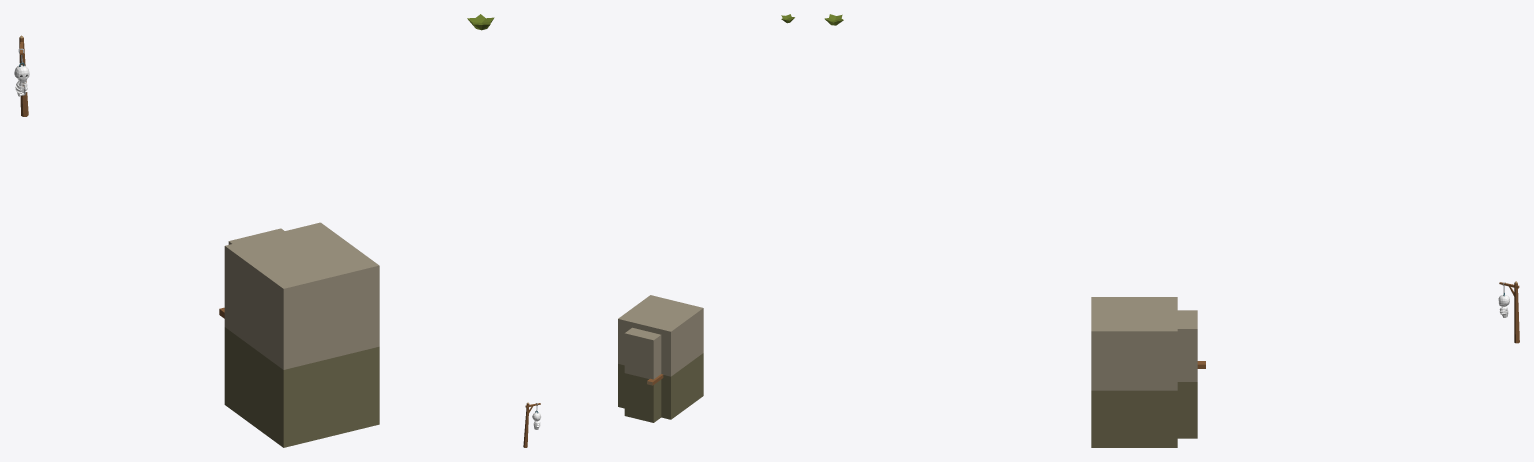
3 views of the same model, side by side, from view 1: azimuth 30°, elevation 25°; view 2: azimuth 150°, elevation 25°; view 3: azimuth 270°, elevation 25° (orthographic). The views are drawn at different scales.
Visible parts, largest first — view 1: Box15391_wall3_0, Box15391_rock2_0; view 2: Box15391_wall3_0, Box15391_rock2_0; view 3: Box15391_wall3_0, Box15391_rock2_0.
Part boxes in pixels (<box>): Box15391_wall3_0: <box>224,222,379,369</box>; Box15391_rock2_0: <box>224,327,379,447</box>; Box15391_wall3_0: <box>618,295,703,379</box>; Box15391_rock2_0: <box>618,353,703,422</box>; Box15391_wall3_0: <box>1091,297,1197,390</box>; Box15391_rock2_0: <box>1091,382,1197,447</box>.
Bounding box in the file's own units: 447 × 2452 × 3828.
